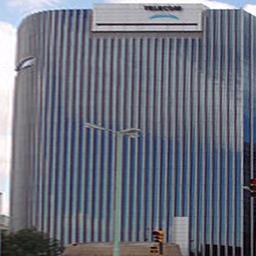building: (13, 5, 244, 256)
